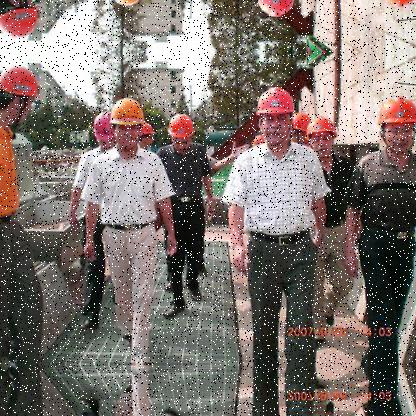Helmet: (0, 64, 53, 126), (247, 78, 295, 146), (98, 84, 146, 150), (376, 92, 415, 156), (158, 110, 198, 158), (0, 0, 40, 48), (86, 109, 119, 157), (134, 121, 174, 160), (310, 121, 342, 162), (286, 113, 312, 145)
